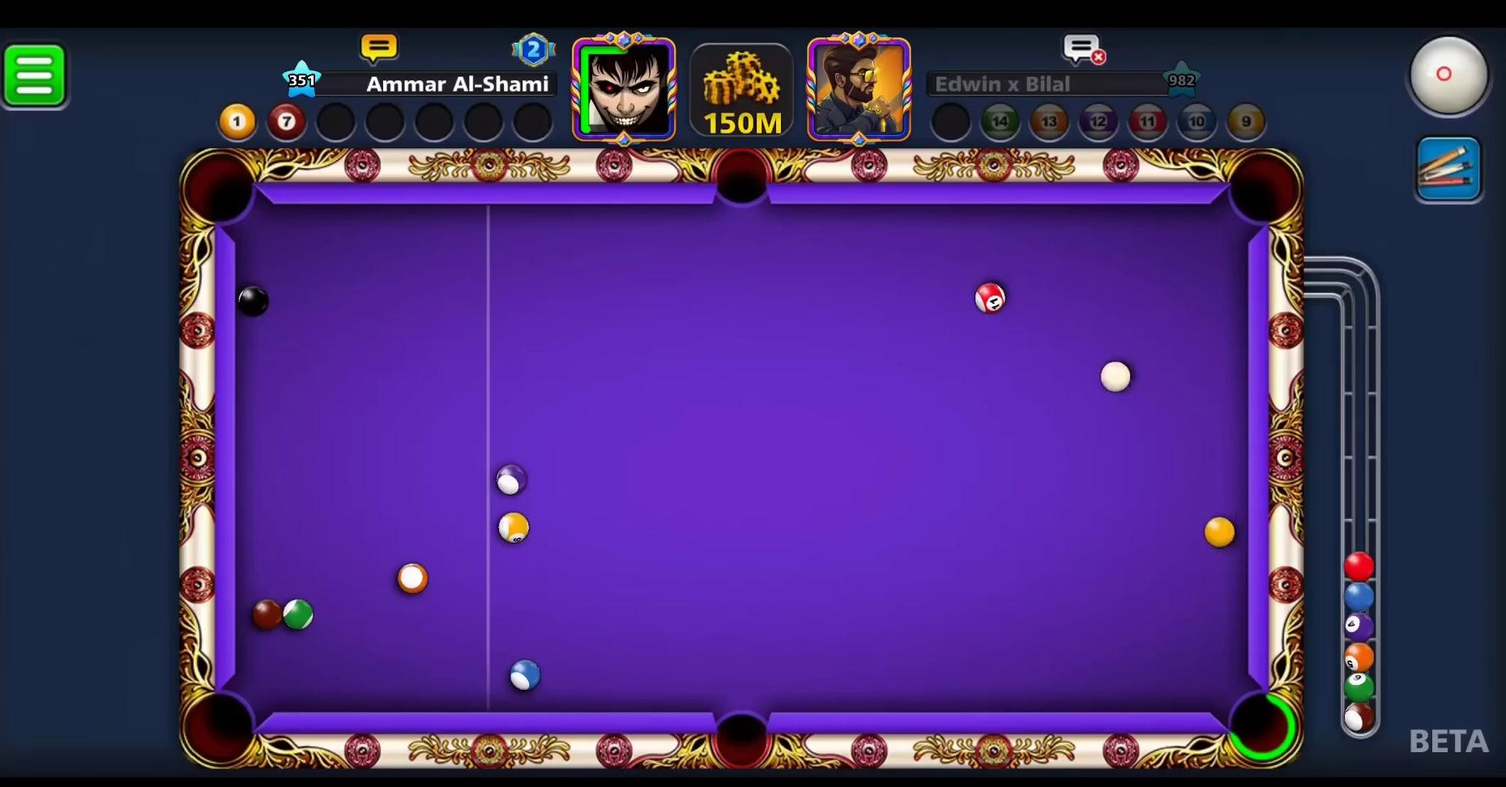Ball: (272, 593, 323, 642), (497, 653, 547, 698), (226, 282, 279, 322), (966, 277, 1012, 320), (391, 562, 436, 603), (488, 460, 535, 497), (245, 598, 288, 634), (494, 510, 535, 547), (1200, 513, 1239, 551)
Hole: (166, 679, 272, 774), (1211, 677, 1306, 775), (175, 140, 267, 234), (696, 688, 790, 775), (1218, 141, 1305, 235), (702, 143, 783, 221)
Play_Area: (233, 204, 1244, 717)
Spin: (1402, 28, 1503, 130)
White: (1094, 356, 1137, 397)
